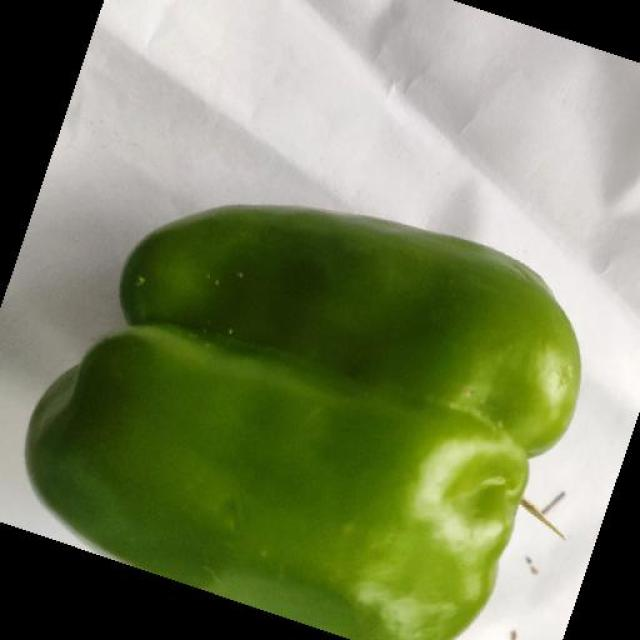Fresh_Capsicum: (41, 184, 588, 640)
